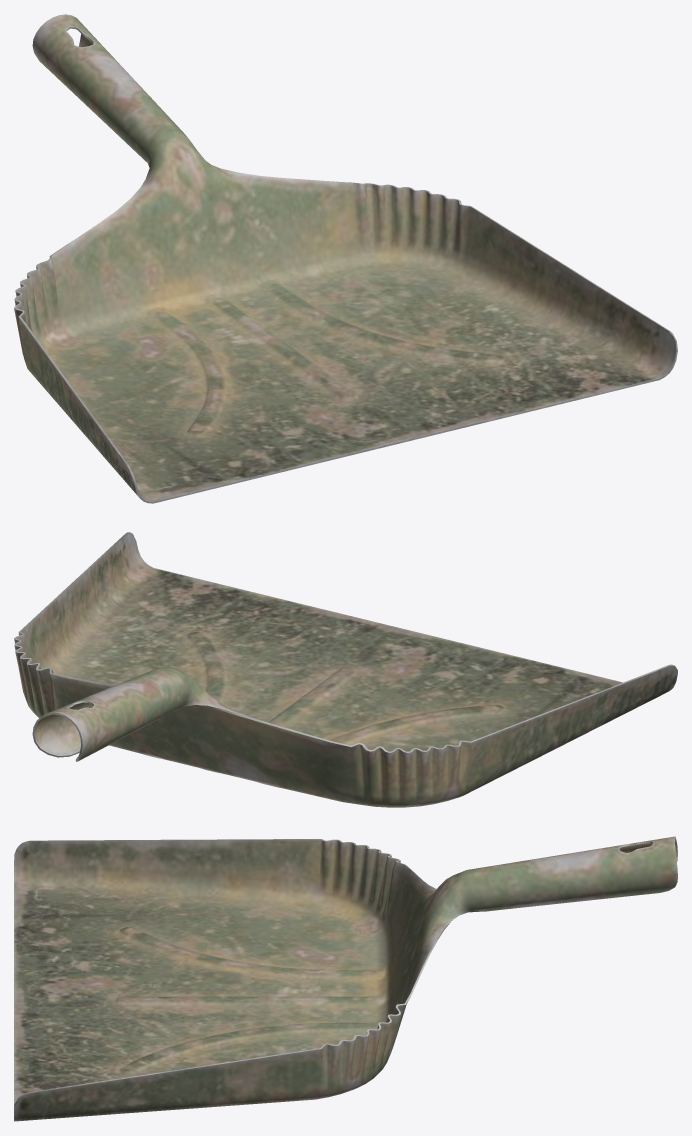
Rendered from dustpan.glb.
3 renders of one model, top to bottom at view 1: azimuth 30°, elevation 25°; view 2: azimuth 150°, elevation 25°; view 3: azimuth 270°, elevation 25°, orthographic. The views are drawn at different scales.
Visible parts, largest first — view 1: dustpan; view 2: dustpan; view 3: dustpan.
Boxes of the visible parts, x1=… form: dustpan: x1=14, y1=14, x2=677, y2=503; dustpan: x1=14, y1=532, x2=677, y2=807; dustpan: x1=14, y1=836, x2=677, y2=1121.
Bounding box in the file's own units: 0.3321 × 0.1003 × 0.3679.
Materials: 1 (1 with a texture image).
